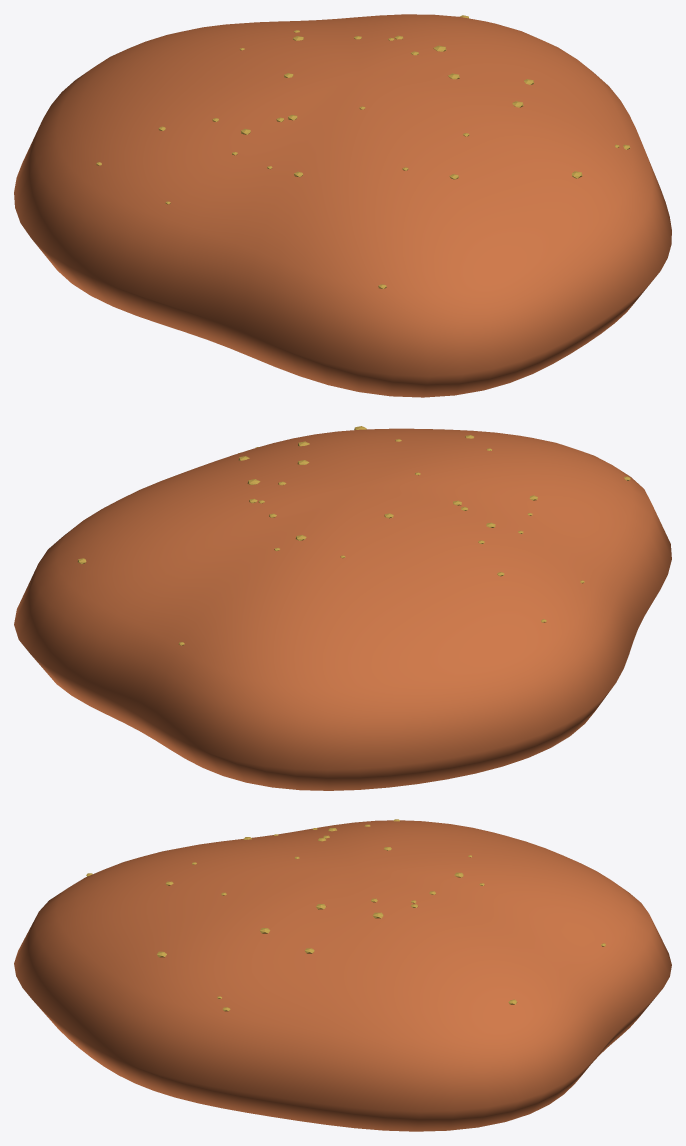
Rendered from stone-sunstone.glb.
3 renders of one model, top to bottom at view 1: azimuth 30°, elevation 25°; view 2: azimuth 150°, elevation 25°; view 3: azimuth 270°, elevation 25°, orthographic. The views are drawn at different scales.
Visible parts, largest first — view 1: Sculpture; view 2: Sculpture; view 3: Sculpture.
Part boxes in pixels (x1,y1,x2,y2): Sculpture: (14, 14, 671, 397); Sculpture: (14, 428, 671, 790); Sculpture: (14, 820, 671, 1131).
Size of the model in its own units: 2.06 by 0.6 by 2.38.
